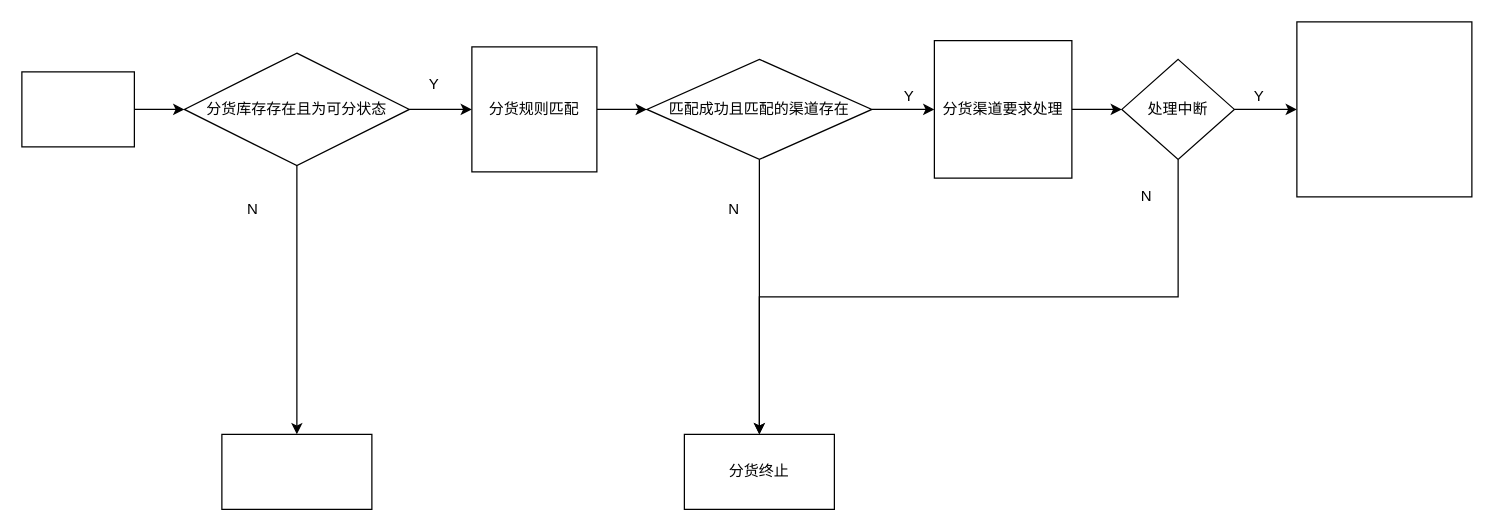
This 1494x531 diagram has some shape labels left out. Each missing label, with the box of its shape:
分货结束，更新分货库存 信息（库存状态-已分，渠道编号，规则编号，商品发布状态-待发布）: (1296, 21, 1472, 197)
分货请求: (21, 71, 134, 147)
异常: (221, 433, 372, 509)
